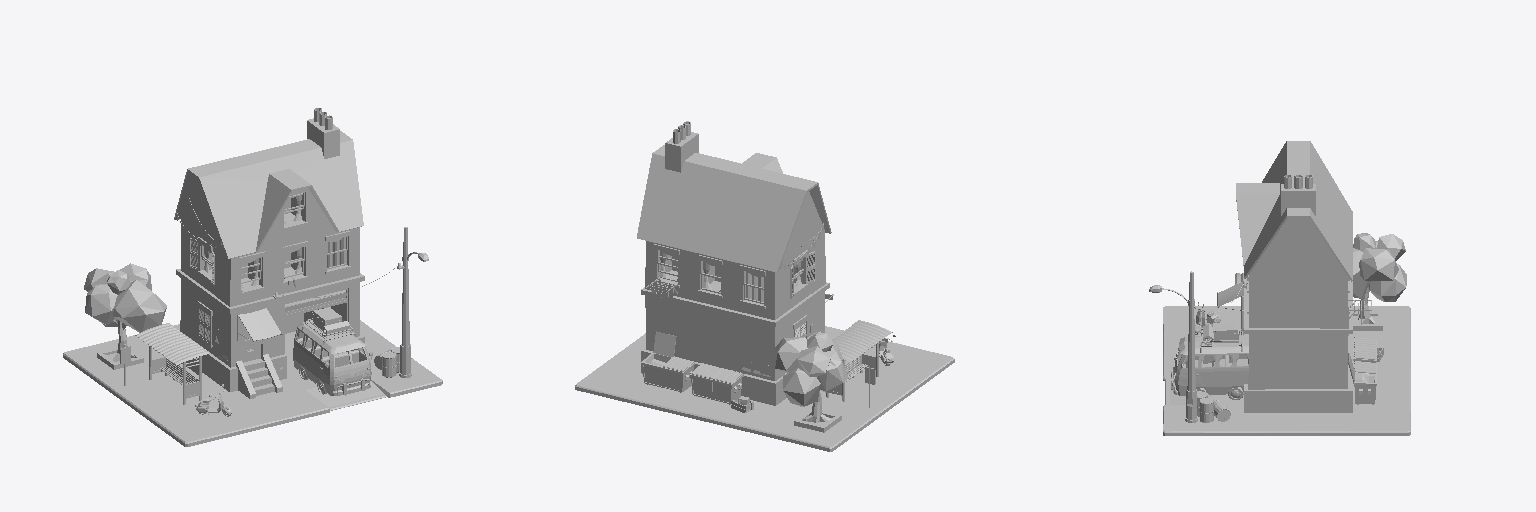
Rendered from tmcasa.obj.
3 views of the same model, side by side, from view 1: azimuth 30°, elevation 25°; view 2: azimuth 150°, elevation 25°; view 3: azimuth 270°, elevation 25° (orthographic).
Parts seen in each view (by area): view 1: House_Mesh.009, Sidewalk_Mesh.012, Kombi_Mesh.010, Tree_Mesh.014, BusStop_Mesh.006, LightPost_Mesh.011, Bricks_Mesh.031; view 2: House_Mesh.009, Sidewalk_Mesh.012, Graffiti_Mesh.026, Tree_Mesh.014, BusStop_Mesh.006, Garbage_open_Mesh.008, Garbage_closed_Mesh.019, Bricks_Mesh.031; view 3: House_Mesh.009, Sidewalk_Mesh.012, Graffiti_Mesh.026, Kombi_Mesh.010, Tree_Mesh.014, LightPost_Mesh.011, Garbage_open_Mesh.008, Bricks_Mesh.031, Garbage_closed_Mesh.019.
Part boxes in pixels (left/top/right/bottom): House_Mesh.009: left=174, top=108, right=364, bottom=398; Sidewalk_Mesh.012: left=63, top=320, right=442, bottom=446; Kombi_Mesh.010: left=293, top=307, right=372, bottom=395; Tree_Mesh.014: left=84, top=263, right=166, bottom=369; BusStop_Mesh.006: left=120, top=323, right=208, bottom=404; LightPost_Mesh.011: left=399, top=227, right=428, bottom=377; Bricks_Mesh.031: left=180, top=280, right=359, bottom=337; House_Mesh.009: left=637, top=121, right=833, bottom=405; Sidewalk_Mesh.012: left=575, top=326, right=954, bottom=451; Graffiti_Mesh.026: left=645, top=296, right=768, bottom=368; Tree_Mesh.014: left=775, top=332, right=848, bottom=432; BusStop_Mesh.006: left=826, top=320, right=892, bottom=407; Garbage_open_Mesh.008: left=641, top=331, right=694, bottom=392; Garbage_closed_Mesh.019: left=690, top=363, right=743, bottom=404; Bricks_Mesh.031: left=645, top=256, right=825, bottom=380; House_Mesh.009: left=1217, top=141, right=1352, bottom=412; Sidewalk_Mesh.012: left=1163, top=306, right=1410, bottom=435; Graffiti_Mesh.026: left=1253, top=253, right=1343, bottom=388; Kombi_Mesh.010: left=1171, top=322, right=1248, bottom=399; Tree_Mesh.014: left=1353, top=233, right=1406, bottom=330; LightPost_Mesh.011: left=1149, top=271, right=1197, bottom=422; Garbage_open_Mesh.008: left=1348, top=353, right=1376, bottom=404; Bricks_Mesh.031: left=1248, top=307, right=1348, bottom=389; Garbage_closed_Mesh.019: left=1353, top=337, right=1376, bottom=362.
Bounding box in the file's own units: 21.71 × 18.86 × 19.06.